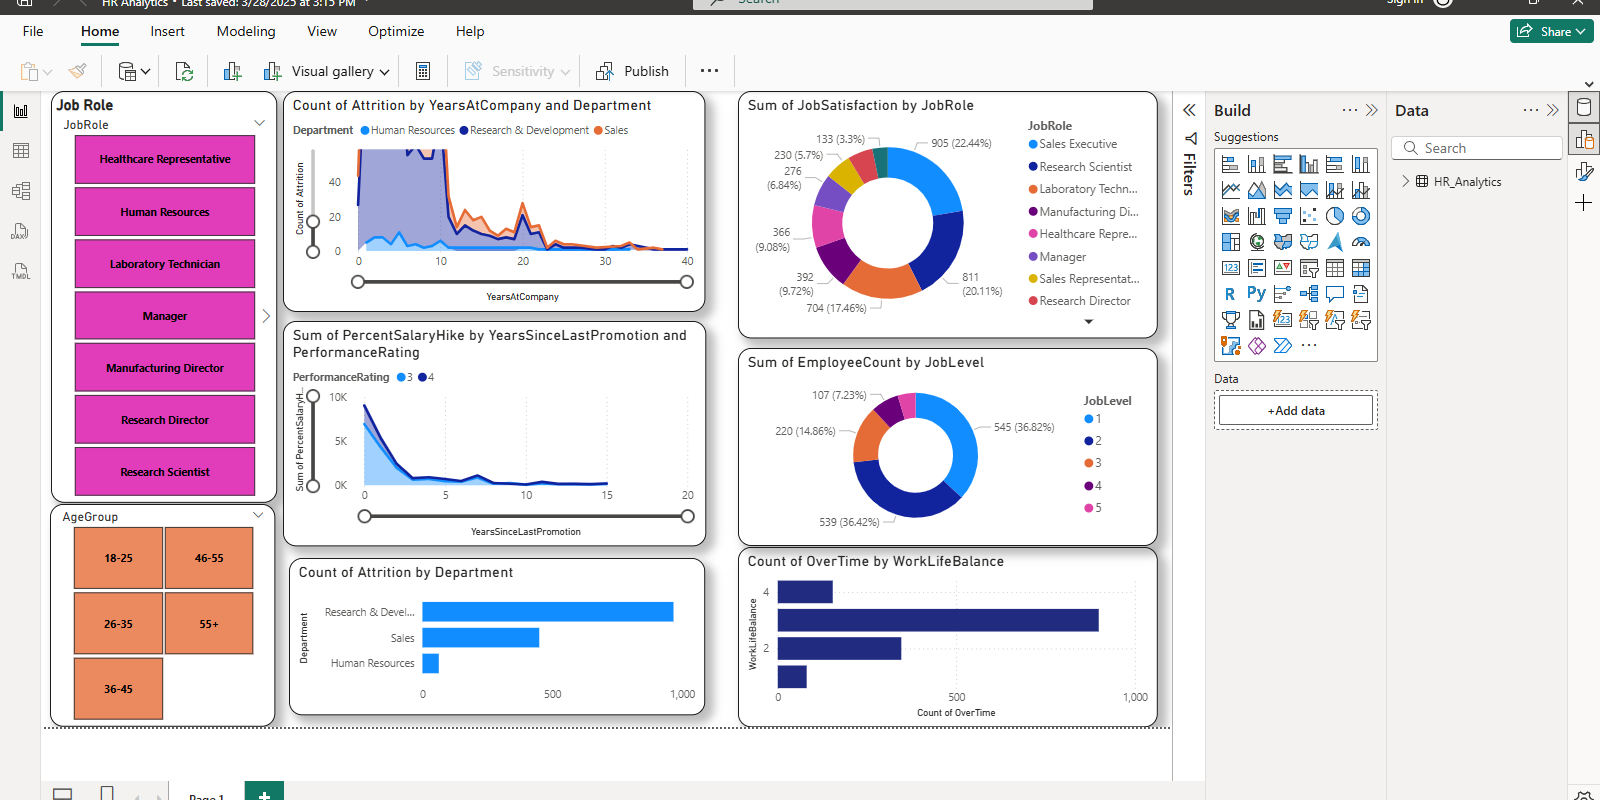

What the dashboard file says about the page in this screenshot:
{"tool":"powerbi","page":{"name":"Page 1","canvas":[1280,720],"ordinal":0},"visuals":[{"type":"slicer","title":"Job Role","fields":{"Values":["HR_Analytics.JobRole"]},"box":[11,0,255.7,466],"z":0},{"type":"slicer","fields":{"Values":["HR_Analytics.AgeGroup"]},"box":[10.6,467.7,255.5,252.3],"z":1000},{"type":"stackedAreaChart","fields":{"Category":["HR_Analytics.YearsAtCompany"],"Y":["CountNonNull(HR_Analytics.Attrition)"],"Series":["HR_Analytics.Department"]},"box":[273.4,0,478.2,250.2],"z":2000},{"type":"stackedAreaChart","fields":{"Category":["HR_Analytics.YearsSinceLastPromotion"],"Y":["Sum(HR_Analytics.PercentSalaryHike)"],"Series":["HR_Analytics.PerformanceRating"]},"box":[273.9,260.3,478.6,254.9],"z":3000},{"type":"donutChart","fields":{"Y":["Sum(HR_Analytics.JobSatisfaction)"],"Category":["HR_Analytics.JobRole"]},"box":[788.6,0,475.1,279.8],"z":4000},{"type":"clusteredBarChart","fields":{"Y":["CountNonNull(HR_Analytics.OverTime)"],"Category":["HR_Analytics.WorkLifeBalance"]},"box":[788.6,516.2,475.1,203.8],"z":5000},{"type":"clusteredBarChart","fields":{"Category":["HR_Analytics.Department"],"Y":["CountNonNull(HR_Analytics.Attrition)"]},"box":[280.8,528.9,470.9,178.4],"z":6000},{"type":"donutChart","fields":{"Y":["Sum(HR_Analytics.EmployeeCount)"],"Category":["HR_Analytics.JobLevel"]},"box":[788.6,291.4,475.1,223.8],"z":6001}]}

Visuals, with their boxes on the page's 1280x720 design canvas (x1, y1, x2, y2). These are canvas units, not pixel positions in the 1600x800 screenshot, which may show the page scaled, cropped or inside an application window:
"Job Role" slicer: left=11, top=0, right=267, bottom=466
slicer - HR_Analytics.AgeGroup: left=11, top=468, right=266, bottom=720
stackedAreaChart - HR_Analytics.YearsAtCompany x CountNonNull(HR_Analytics.Attrition): left=273, top=0, right=752, bottom=250
stackedAreaChart - HR_Analytics.YearsSinceLastPromotion x Sum(HR_Analytics.PercentSalaryHike): left=274, top=260, right=752, bottom=515
donutChart - Sum(HR_Analytics.JobSatisfaction) x HR_Analytics.JobRole: left=789, top=0, right=1264, bottom=280
clusteredBarChart - CountNonNull(HR_Analytics.OverTime) x HR_Analytics.WorkLifeBalance: left=789, top=516, right=1264, bottom=720
clusteredBarChart - HR_Analytics.Department x CountNonNull(HR_Analytics.Attrition): left=281, top=529, right=752, bottom=707
donutChart - Sum(HR_Analytics.EmployeeCount) x HR_Analytics.JobLevel: left=789, top=291, right=1264, bottom=515
